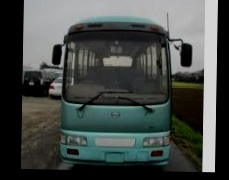bus: (50, 16, 193, 172)
